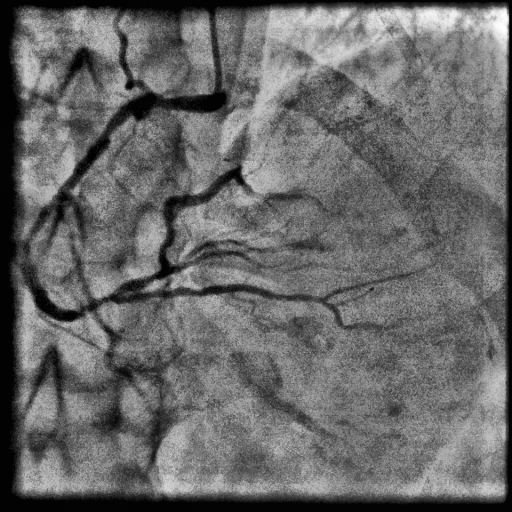pborca: (110, 166, 301, 299)
pda: (114, 284, 361, 329)
rca: (20, 93, 216, 323)
